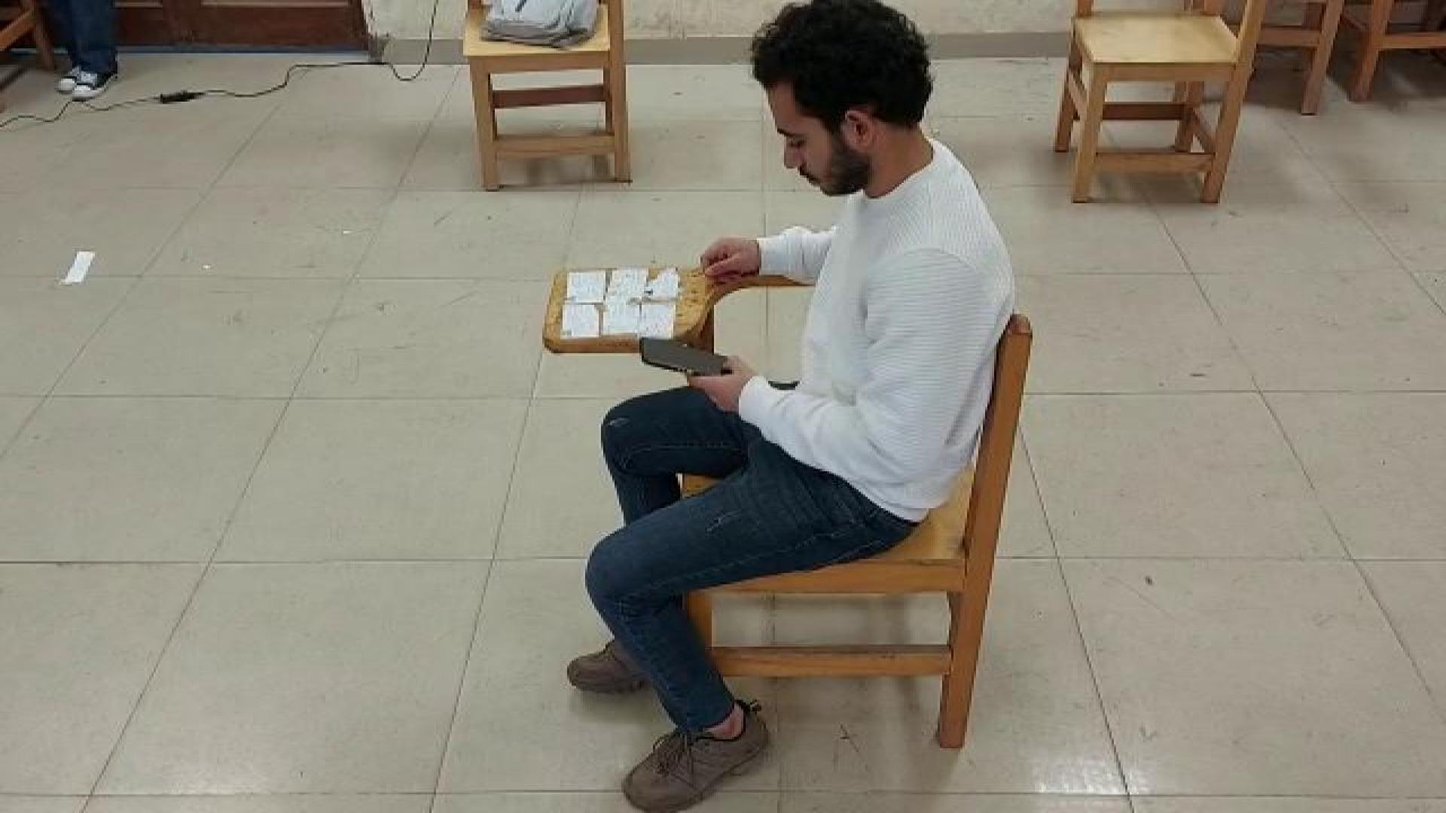phone: (637, 335, 734, 386)
